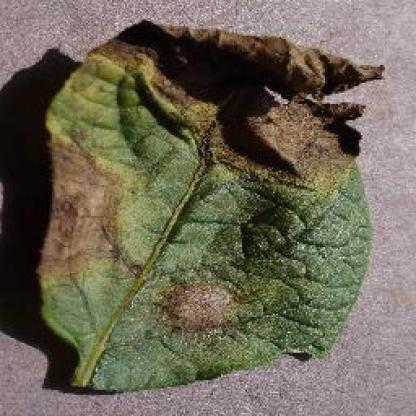bad leaf: (86, 13, 360, 184), (38, 120, 133, 282), (126, 265, 266, 333)
